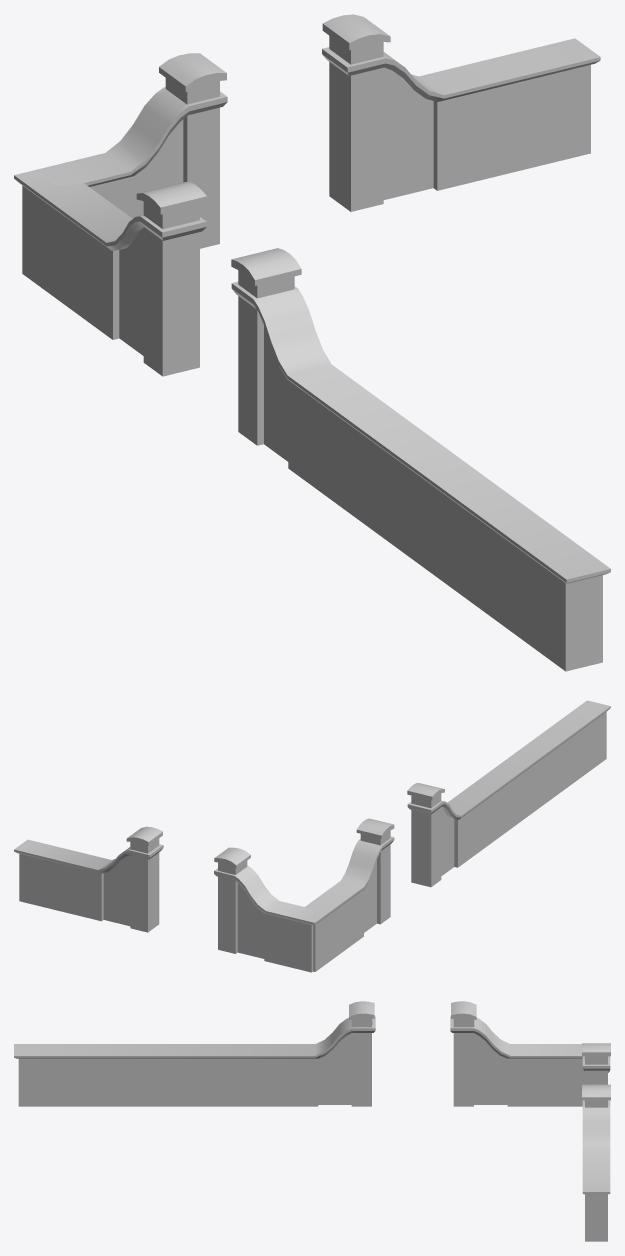
File: Gerbang Kepatihan.fbx
3 renders of one model, top to bottom at view 1: azimuth 30°, elevation 25°; view 2: azimuth 150°, elevation 25°; view 3: azimuth 270°, elevation 25°, orthographic. The views are drawn at different scales.
Parts seen in each view (by area): view 1: Cube.044; view 2: Cube.044; view 3: Cube.044.
Part boxes in pixels (box(x1,y1,x2,y2)): Cube.044: box(14, 14, 610, 671); Cube.044: box(14, 700, 610, 972); Cube.044: box(14, 1001, 610, 1241).
Size of the model in its own units: 731 by 218 by 1246.
